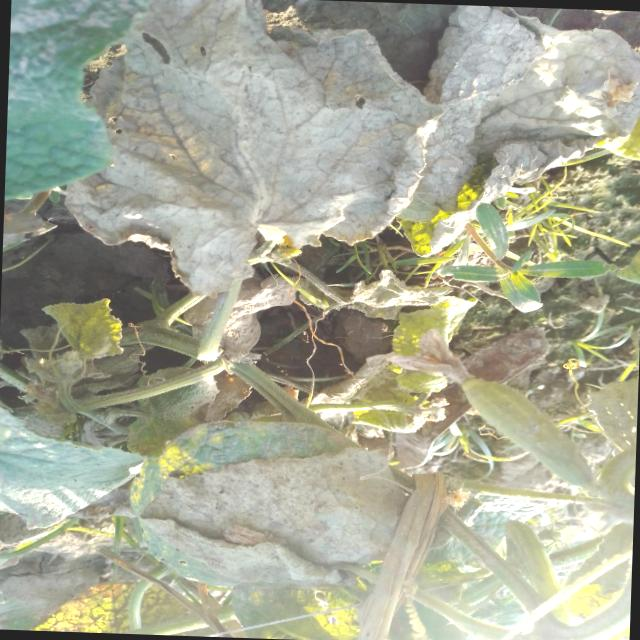cucumber_bacterial: (72, 0, 425, 274), (377, 2, 640, 270), (122, 388, 428, 598)
